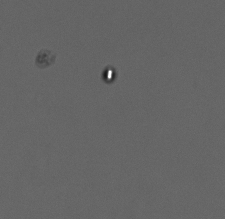Dead Cell: (34, 49, 57, 67)
Living Cell: (101, 65, 116, 84)
